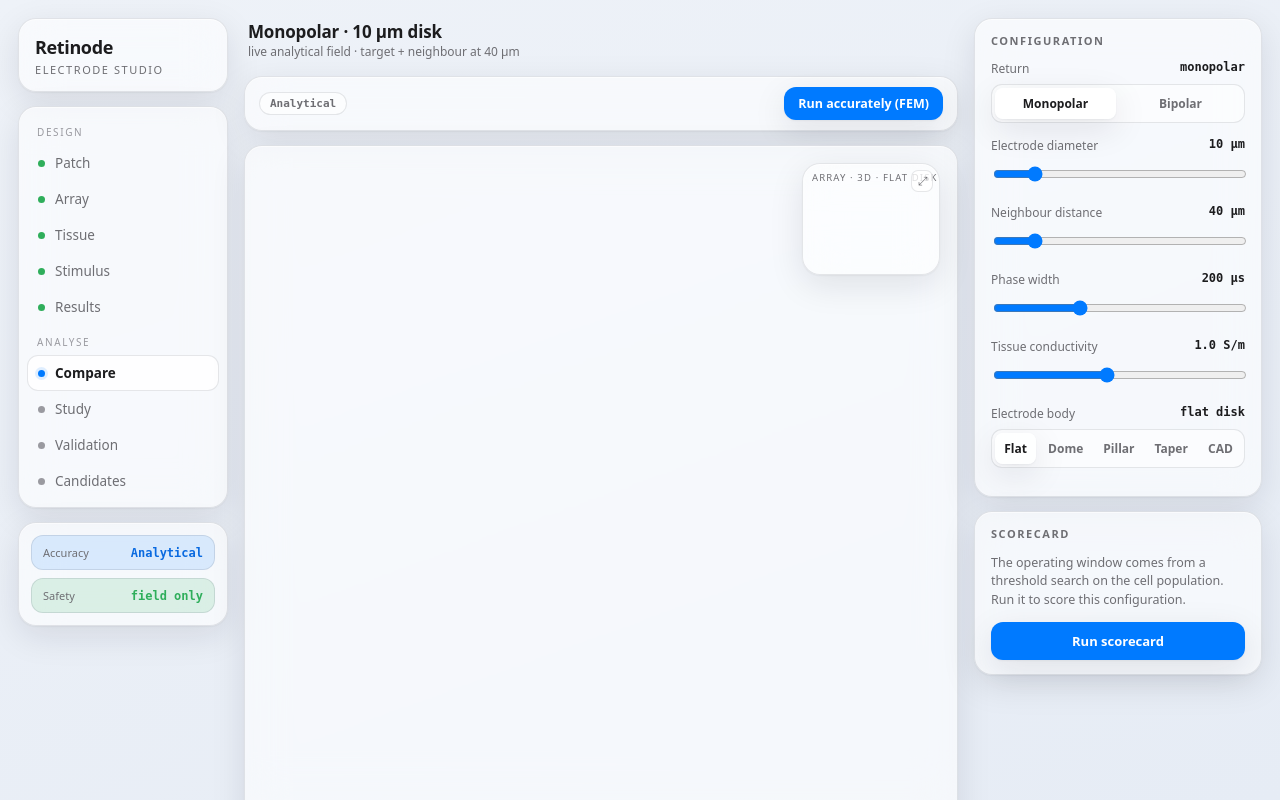
Test: Compare › submits a scorecard job and polls it to the operating window
What coordinates should you click on to do the following:
click the button "Run scorecard"
I would click on:
 (1118, 641)
Its box is [991,622,1245,660].
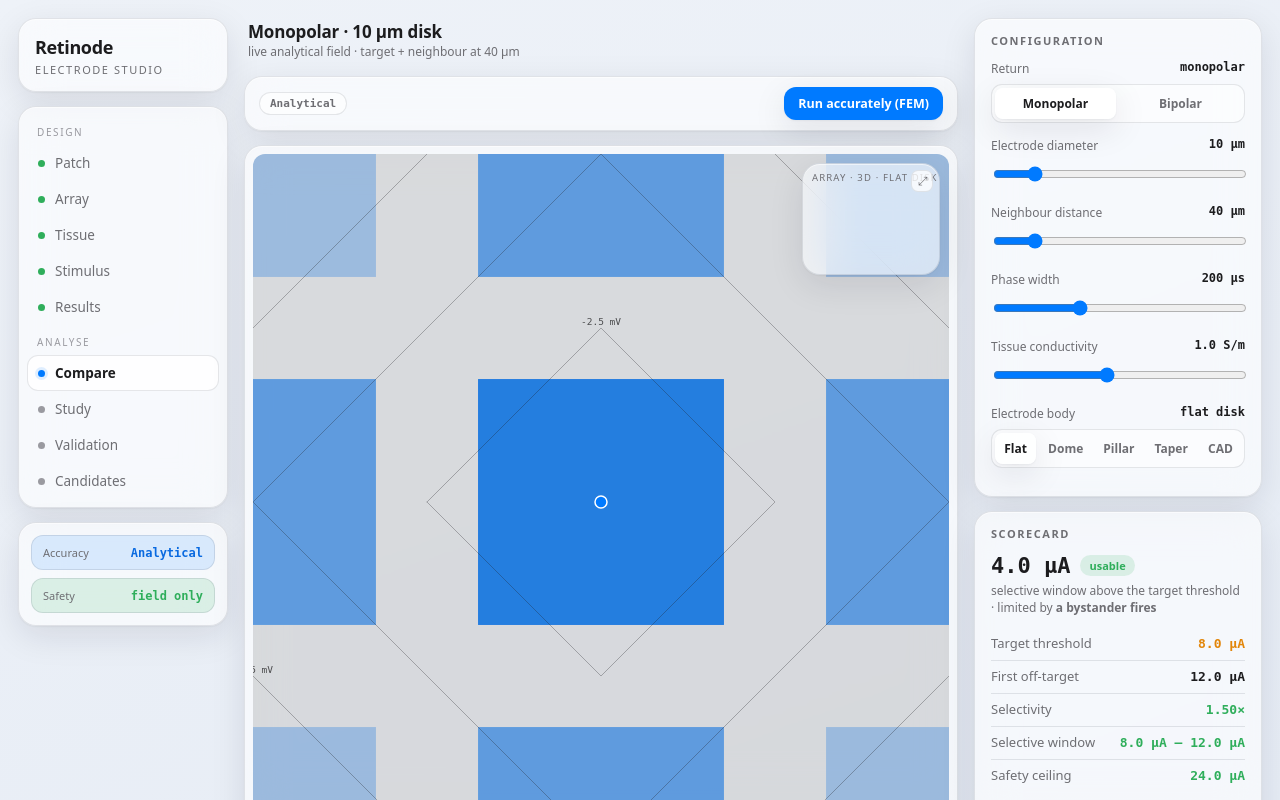
Result: the text "8.0 µA" is shown at [1198,636,1245,650]
